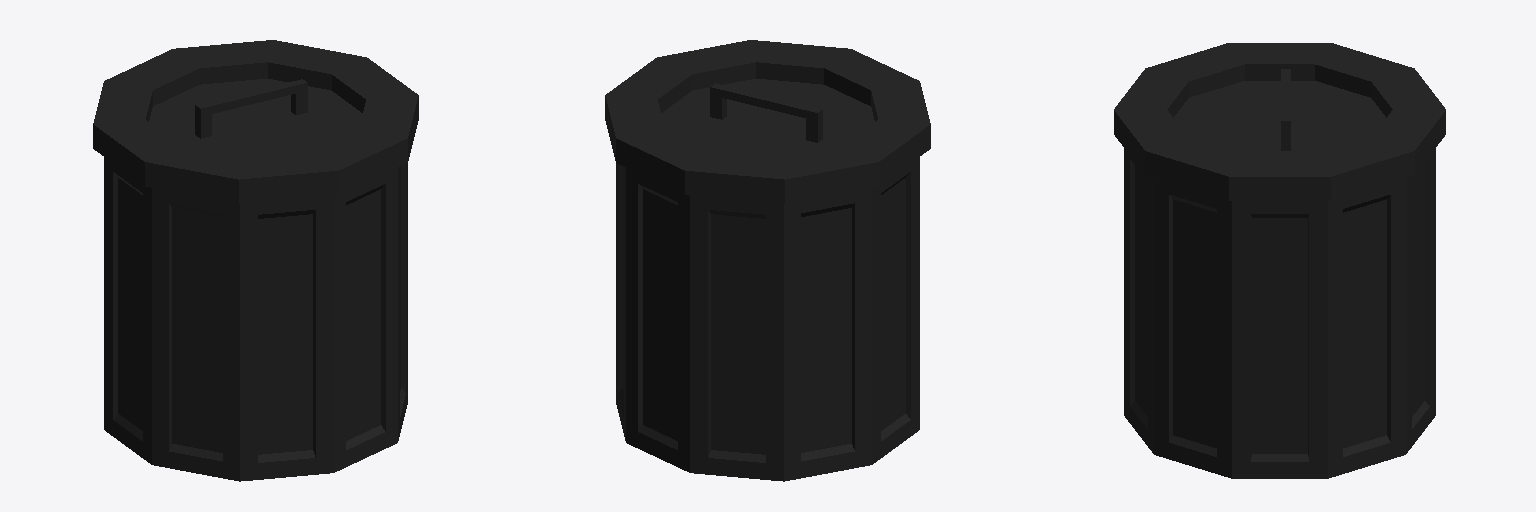
The model's file is lixeira.obj.
3 renders of one model, left to right at view 1: azimuth 30°, elevation 25°; view 2: azimuth 150°, elevation 25°; view 3: azimuth 270°, elevation 25°, orthographic.
Visible parts, largest first — view 1: Cube; view 2: Cube; view 3: Cube.
Part boxes in pixels (x1,y1,x2,y2): Cube: (93,40,418,481); Cube: (605,40,930,481); Cube: (1114,43,1445,478).
Size of the model in its own units: 2.03 by 2.27 by 2.14.